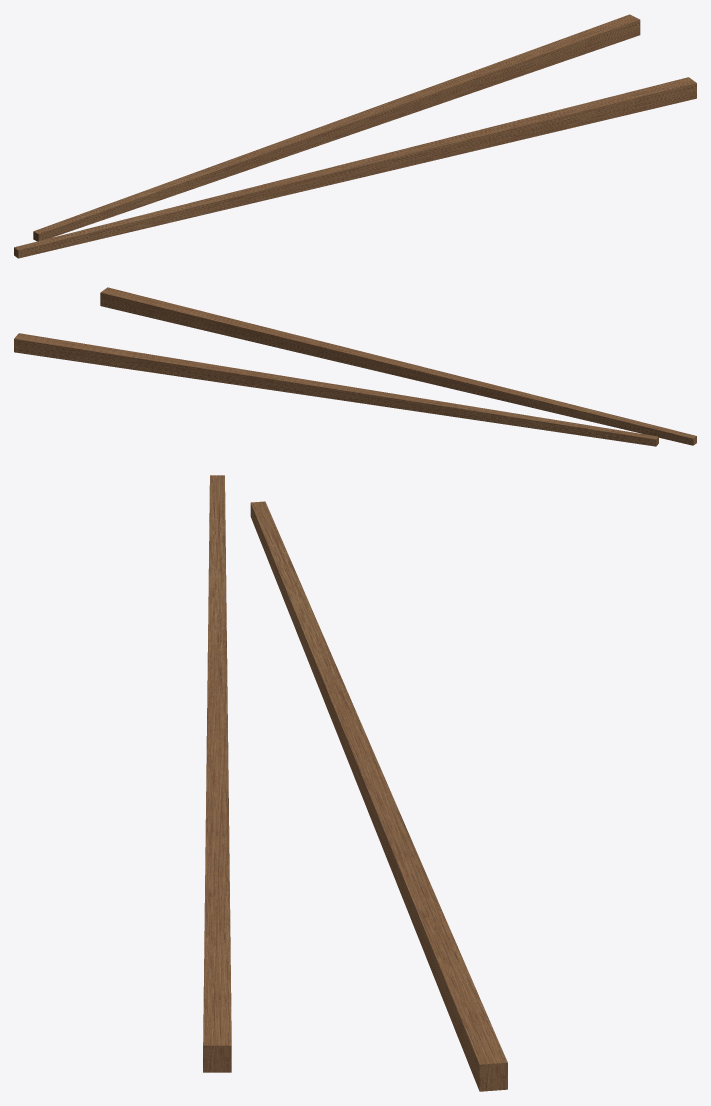
File: Chopsticks.FBX
3 renders of one model, top to bottom at view 1: azimuth 30°, elevation 25°; view 2: azimuth 150°, elevation 25°; view 3: azimuth 270°, elevation 25°, orthographic. The views are drawn at different scales.
Visible parts, largest first — view 1: chopsticks; view 2: chopsticks; view 3: chopsticks.
Boxes of the visible parts, box(x1,y1,x2,y2) form: chopsticks: box(14, 14, 696, 258); chopsticks: box(14, 287, 696, 446); chopsticks: box(203, 475, 507, 1091).
Size of the model in its own units: 26 by 0.5499 by 5.62.
Materials: 1 (1 with a texture image).
